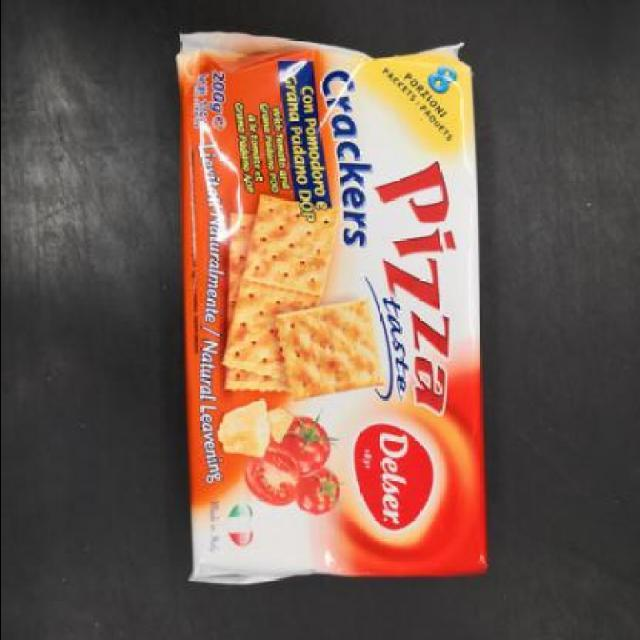Cracker: (172, 27, 492, 596)
